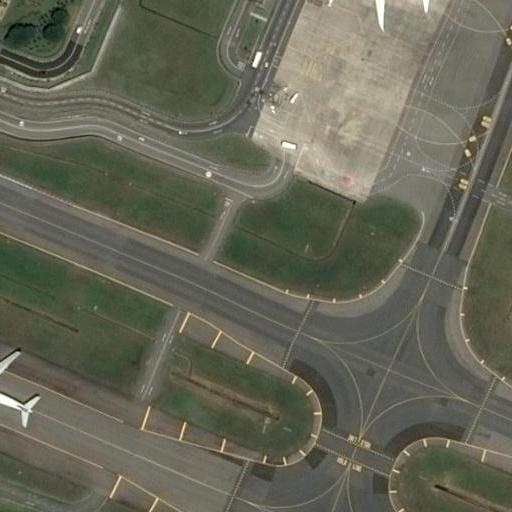Aircraft: (0, 343, 41, 447), (0, 344, 42, 443), (344, 0, 441, 28)
